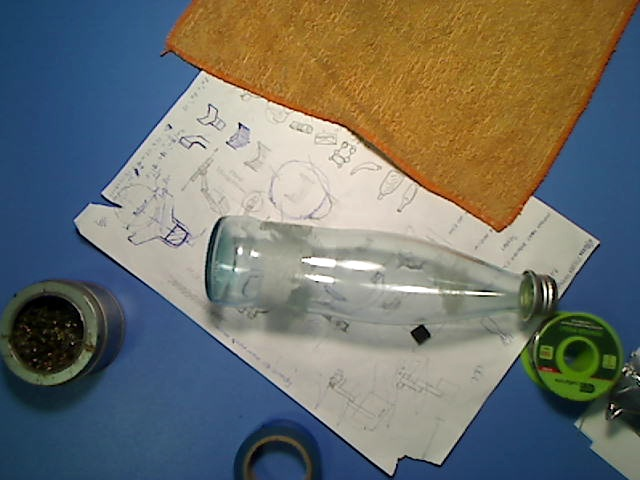bottle: (203, 214, 560, 327)
